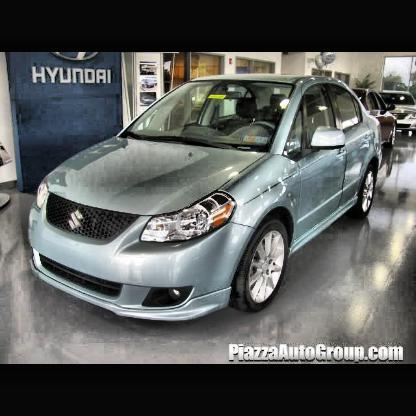Suzuki SX4 Sedan 2012: (26, 76, 384, 321)
